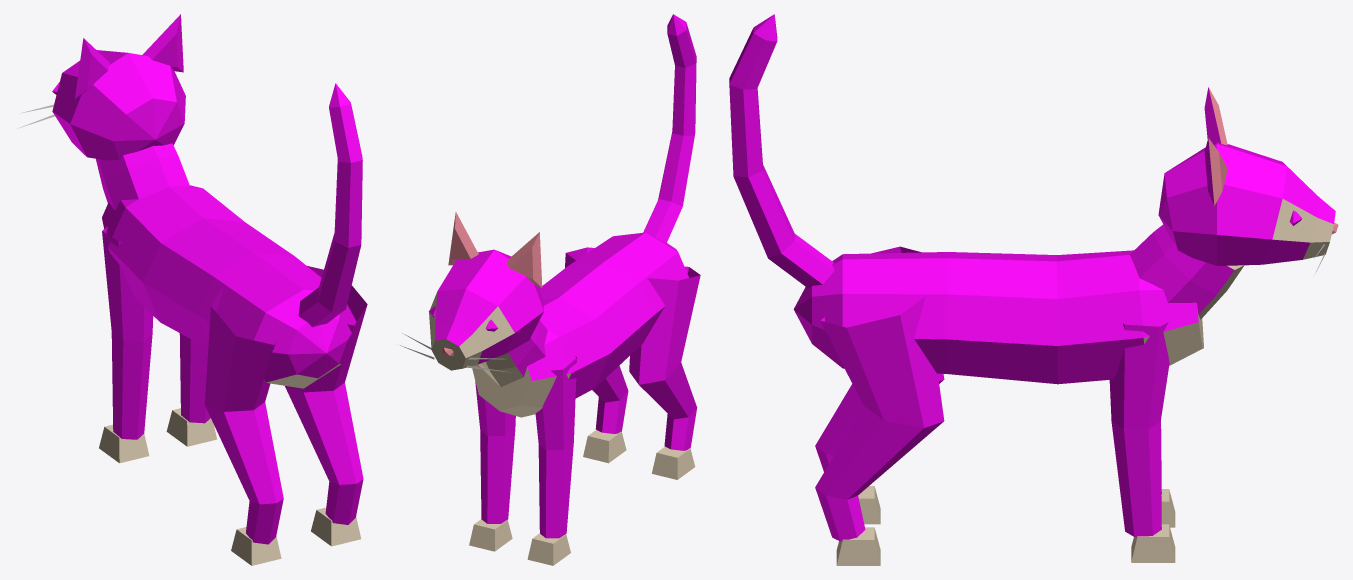
File: cat.glb
3 renders of one model, left to right at view 1: azimuth 30°, elevation 25°; view 2: azimuth 150°, elevation 25°; view 3: azimuth 270°, elevation 25°, orthographic. The views are drawn at different scales.
Parts seen in each view (by area): view 1: cat__body, cat__head, cat__leg_rl, cat__leg_rr, cat__leg_fl, cat__tail, cat__leg_fr; view 2: cat__body, cat__head, cat__leg_rl, cat__leg_fl, cat__tail, cat__leg_fr, cat__leg_rr; view 3: cat__body, cat__head, cat__leg_rr, cat__leg_fr, cat__tail, cat__leg_rl.
Part boxes in pixels (x1,y1,x2,y2): cat__body: (102,185,356,388); cat__head: (17,14,189,210); cat__leg_rl: (205,286,283,565); cat__leg_rr: (285,266,367,546); cat__leg_fl: (99,226,153,463); cat__tail: (298,83,362,327); cat__leg_fr: (166,333,216,446); cat__body: (472,232,688,417); cat__head: (400,211,547,386); cat__leg_rl: (629,266,700,479); cat__leg_fl: (527,356,576,565); cat__tail: (643,14,696,242); cat__leg_fr: (469,382,515,551); cat__leg_rr: (565,247,628,463); cat__body: (793,250,1203,384); cat__head: (1130,87,1338,319); cat__leg_rr: (815,296,944,565); cat__leg_fr: (1109,322,1175,562); cat__tail: (729,14,834,288); cat__leg_rl: (815,246,944,524).
Size of the model in its own units: 0.138 by 0.4705 by 0.4964.
1 material, 1 textured.
